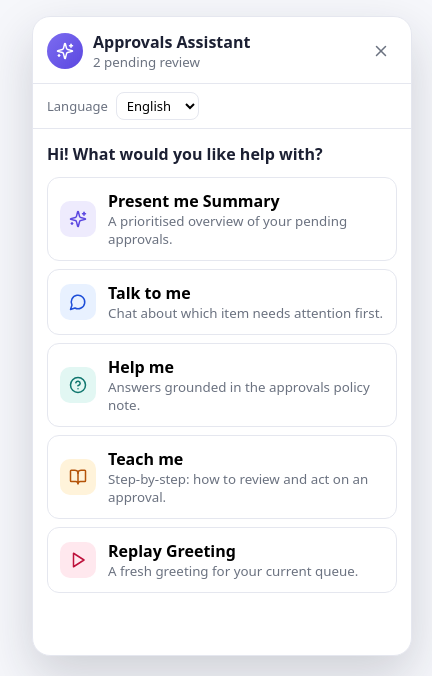
Test: conversation actions › Teach me: starts the lesson immediately and accepts a follow-up
This screenshot has width=432, height=676.
Later steps or results of the test are not shown.
Click the button "Teach me Step-by-step: how to review and act on an approval.". click: (222, 477)
box: top-left (47, 435), bottom-right (397, 519)
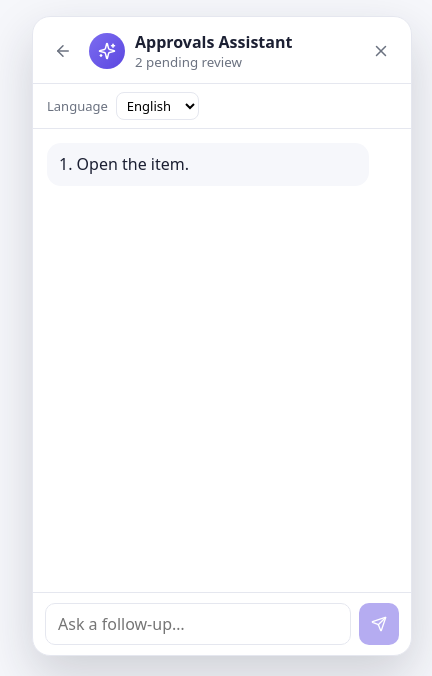
Check: the text "1. Open the item." is shown, box top-left (47, 143), bottom-right (369, 186)
